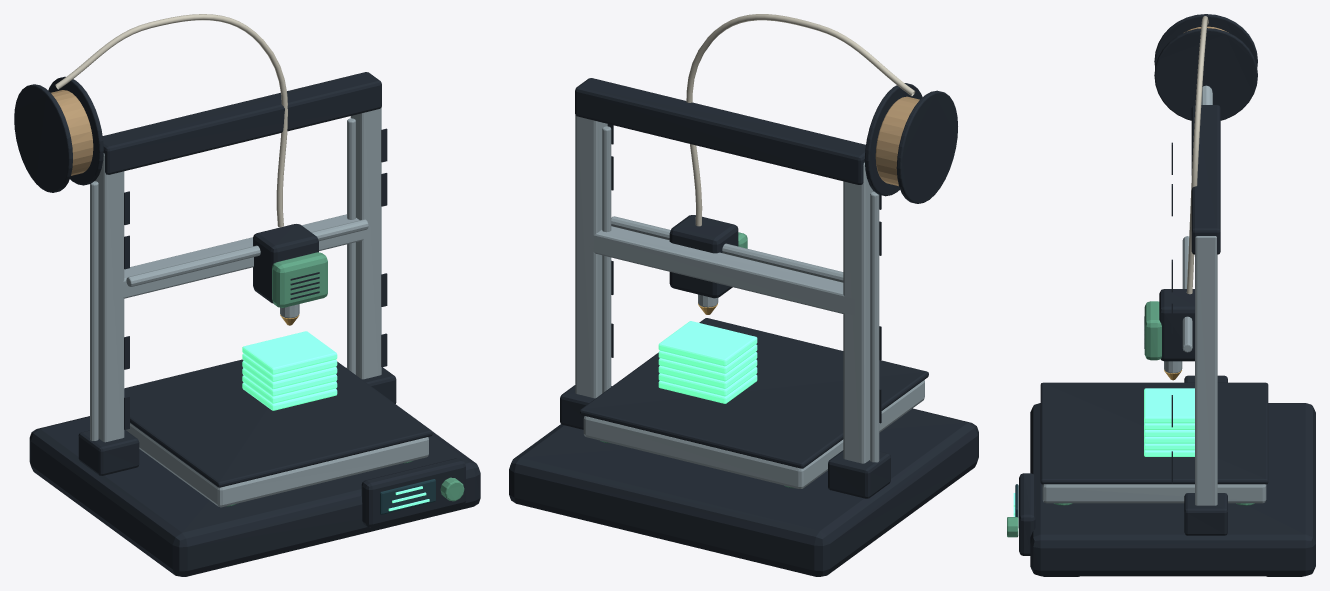
File: printer3d.glb
The picture shows the model from 3 angles, left to right: view 1: azimuth 30°, elevation 25°; view 2: azimuth 150°, elevation 25°; view 3: azimuth 270°, elevation 25°; orthographic projection. The views are drawn at different scales.
Visible parts, largest first — view 1: printer3d; view 2: printer3d; view 3: printer3d.
Part boxes in pixels (left/top/right/bottom): printer3d: left=14, top=14, right=480, bottom=576; printer3d: left=509, top=14, right=978, bottom=576; printer3d: left=1007, top=14, right=1315, bottom=576.
Size of the model in its own units: 0.911 by 1.19 by 0.746.
